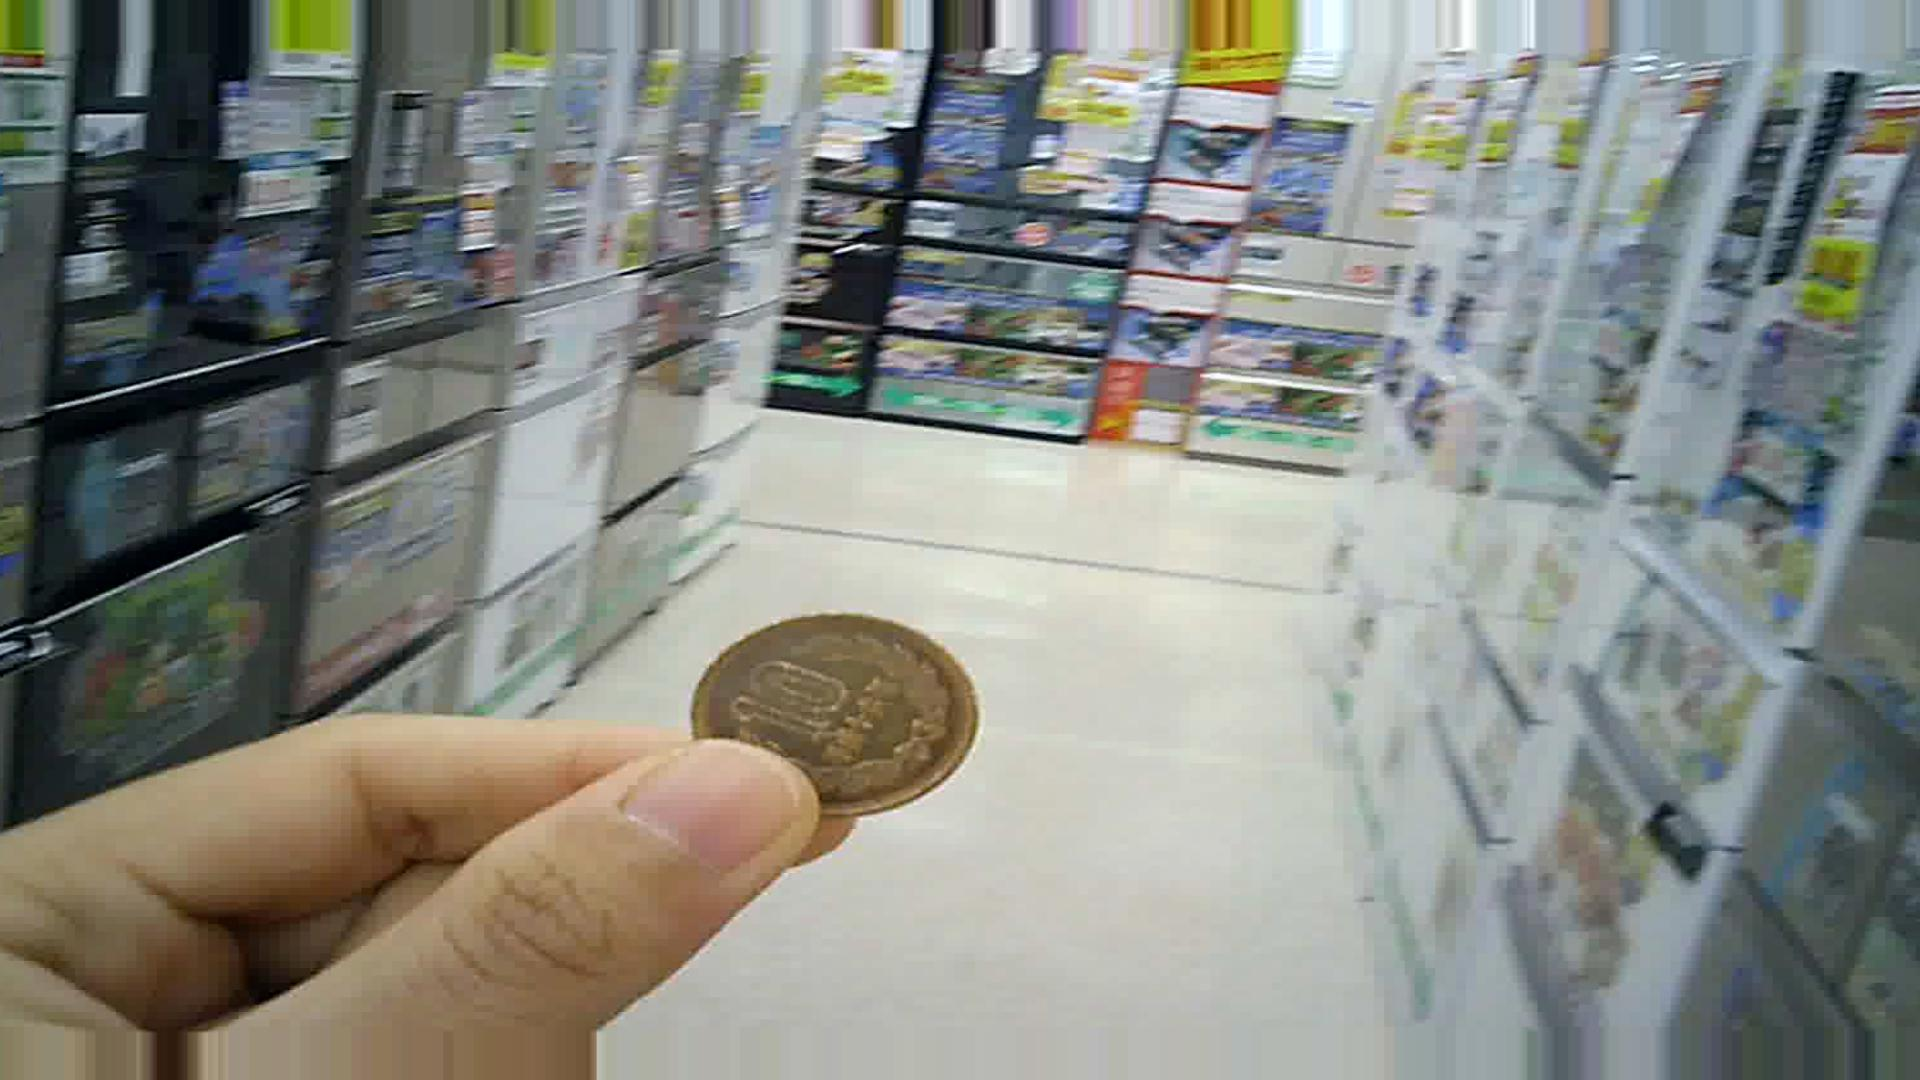10 Yen: (683, 607, 967, 815)
